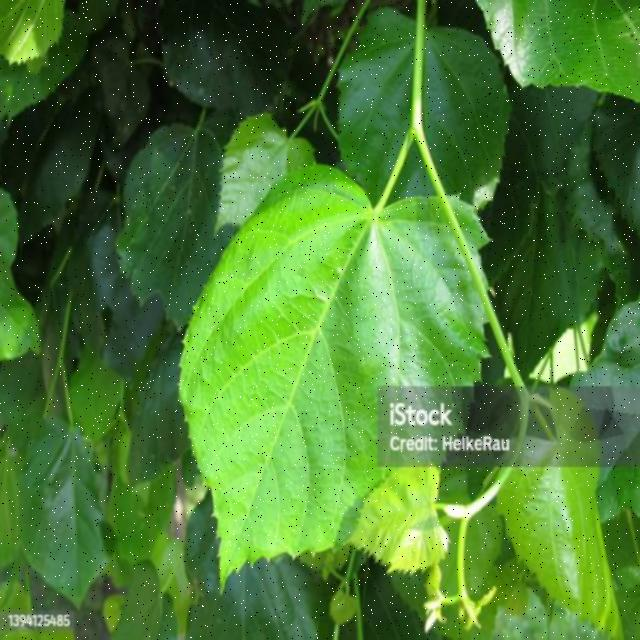yaprak: (224, 190, 459, 536), (508, 381, 616, 611), (347, 50, 482, 171), (26, 424, 116, 598), (488, 5, 639, 96), (0, 198, 42, 387), (138, 130, 186, 255), (169, 34, 255, 92), (2, 0, 50, 68)
